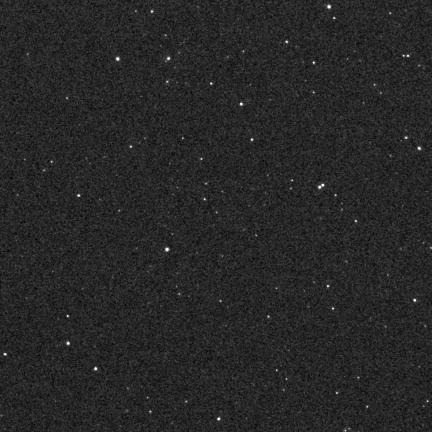blob: (165, 247, 170, 252), (116, 57, 119, 61)
